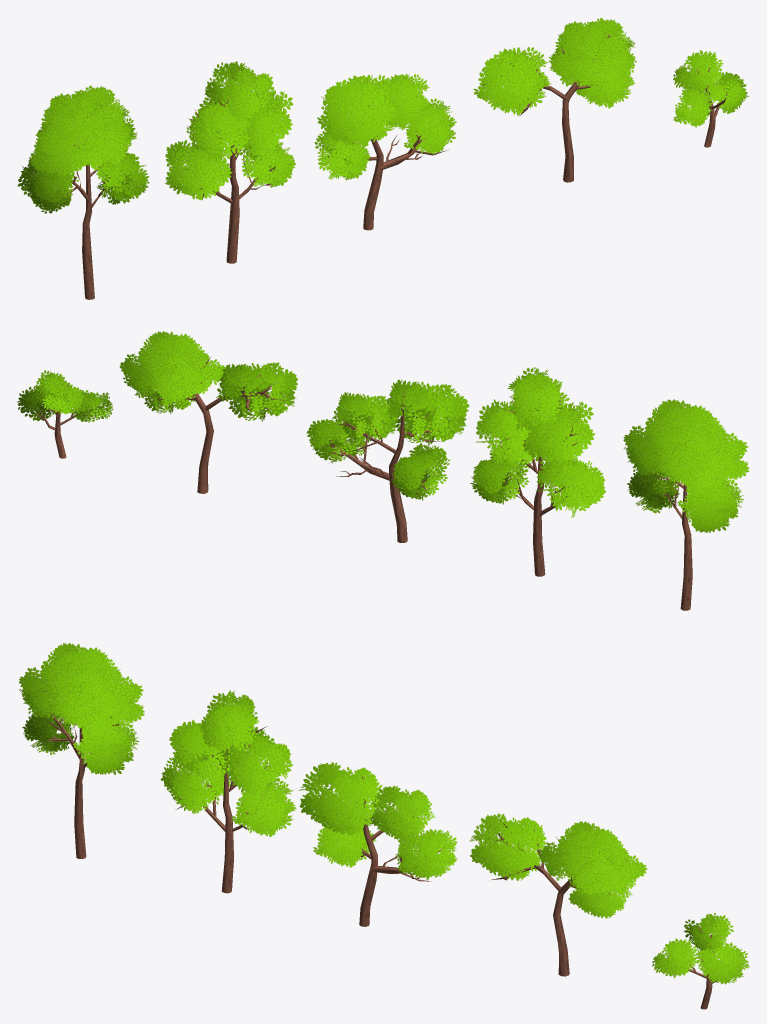
Rendered from Trees.glb.
3 views of the same model, one above another, from view 1: azimuth 30°, elevation 25°; view 2: azimuth 150°, elevation 25°; view 3: azimuth 330°, elevation 25° (orthographic).
Parts seen in each view (by area): view 1: NormalTree_2, NormalTree_1, NormalTree_3, NormalTree_4, NormalTree_5; view 2: NormalTree_2, NormalTree_1, NormalTree_3, NormalTree_4, NormalTree_5; view 3: NormalTree_2, NormalTree_1, NormalTree_3, NormalTree_4, NormalTree_5.
Part boxes in pixels (<box>): NormalTree_2: <box>165,61,295,263</box>; NormalTree_1: <box>17,85,149,299</box>; NormalTree_3: <box>314,74,456,230</box>; NormalTree_4: <box>473,18,636,182</box>; NormalTree_5: <box>673,50,749,147</box>; NormalTree_2: <box>470,367,605,576</box>; NormalTree_1: <box>623,399,749,610</box>; NormalTree_3: <box>306,379,469,542</box>; NormalTree_4: <box>119,331,297,493</box>; NormalTree_5: <box>17,370,112,458</box>; NormalTree_2: <box>160,690,296,893</box>; NormalTree_1: <box>19,643,144,858</box>; NormalTree_3: <box>298,762,457,926</box>; NormalTree_4: <box>469,813,647,976</box>; NormalTree_5: <box>652,913,749,1009</box>.
Bounding box in the file's own units: 24.93 × 6.87 × 3.
Materials: 2 (2 with a texture image).
